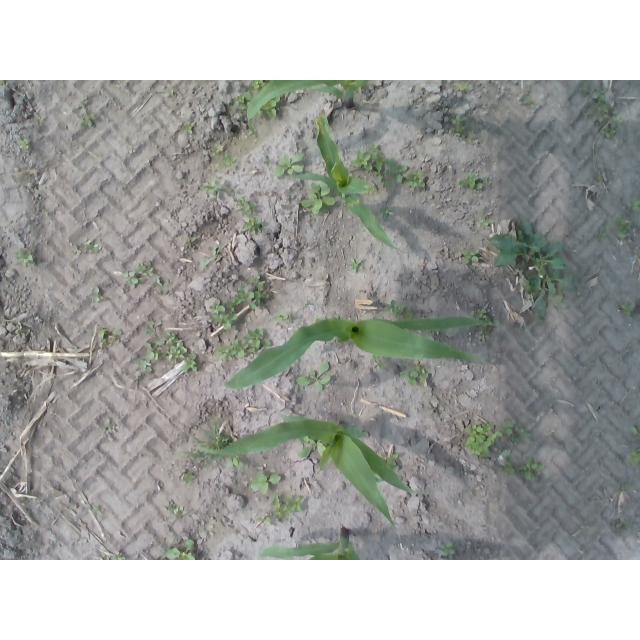Maize: (194, 412, 426, 537), (226, 315, 494, 388), (285, 115, 403, 254), (246, 80, 371, 133), (259, 528, 361, 560)
Weeds: (491, 216, 577, 324), (349, 143, 407, 189), (178, 417, 230, 468), (584, 88, 622, 139), (214, 327, 270, 360), (155, 331, 198, 373), (462, 421, 502, 459), (235, 275, 270, 310), (233, 194, 263, 234), (301, 181, 336, 215), (469, 306, 499, 343), (296, 361, 332, 391), (296, 434, 333, 463), (234, 80, 271, 109), (372, 449, 401, 483), (122, 260, 155, 289), (268, 493, 304, 519), (134, 342, 159, 378), (500, 419, 532, 447), (210, 298, 238, 330), (247, 470, 281, 496), (397, 361, 431, 385), (449, 114, 476, 144), (201, 176, 238, 197), (519, 457, 545, 484), (275, 154, 304, 177), (383, 300, 414, 321), (167, 540, 198, 561), (459, 171, 490, 190), (200, 244, 221, 272), (97, 328, 124, 349), (256, 95, 280, 118), (404, 169, 429, 189), (612, 214, 632, 238), (497, 459, 518, 478), (14, 247, 34, 266), (367, 352, 389, 369), (460, 248, 481, 264), (80, 109, 97, 128), (221, 151, 238, 169), (99, 418, 118, 434), (625, 446, 640, 466), (166, 502, 187, 516), (439, 540, 456, 556), (347, 258, 365, 273), (621, 302, 636, 318), (476, 213, 493, 227), (83, 241, 101, 254), (612, 519, 631, 530), (453, 82, 471, 93), (181, 472, 196, 485), (380, 207, 395, 220), (93, 286, 104, 303), (229, 454, 243, 467), (209, 144, 223, 157), (141, 321, 155, 334), (257, 512, 272, 524), (275, 309, 290, 321), (184, 236, 197, 249), (617, 482, 631, 494), (629, 197, 640, 212), (110, 550, 126, 560), (154, 277, 170, 287), (181, 123, 193, 136), (524, 96, 536, 109), (631, 425, 640, 439), (19, 139, 30, 150), (584, 524, 596, 533), (14, 321, 22, 334), (596, 171, 604, 182), (598, 230, 608, 238), (92, 506, 102, 514), (264, 157, 272, 164), (181, 177, 188, 183), (1, 81, 8, 84)
